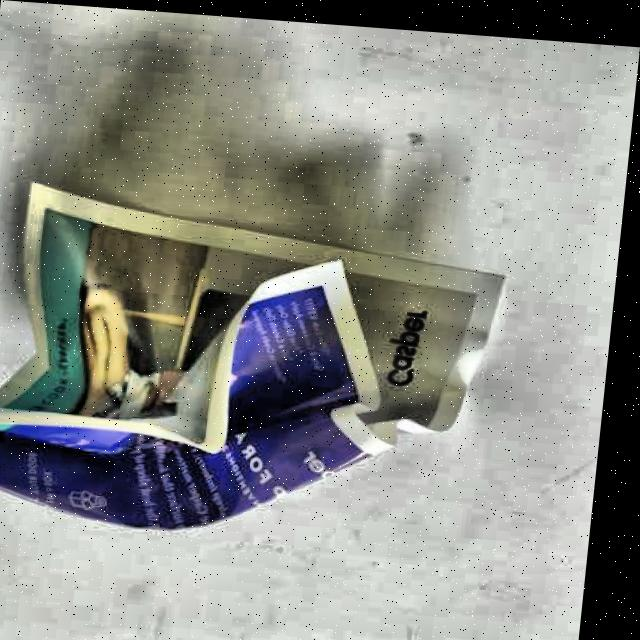paper: (0, 175, 517, 553)
